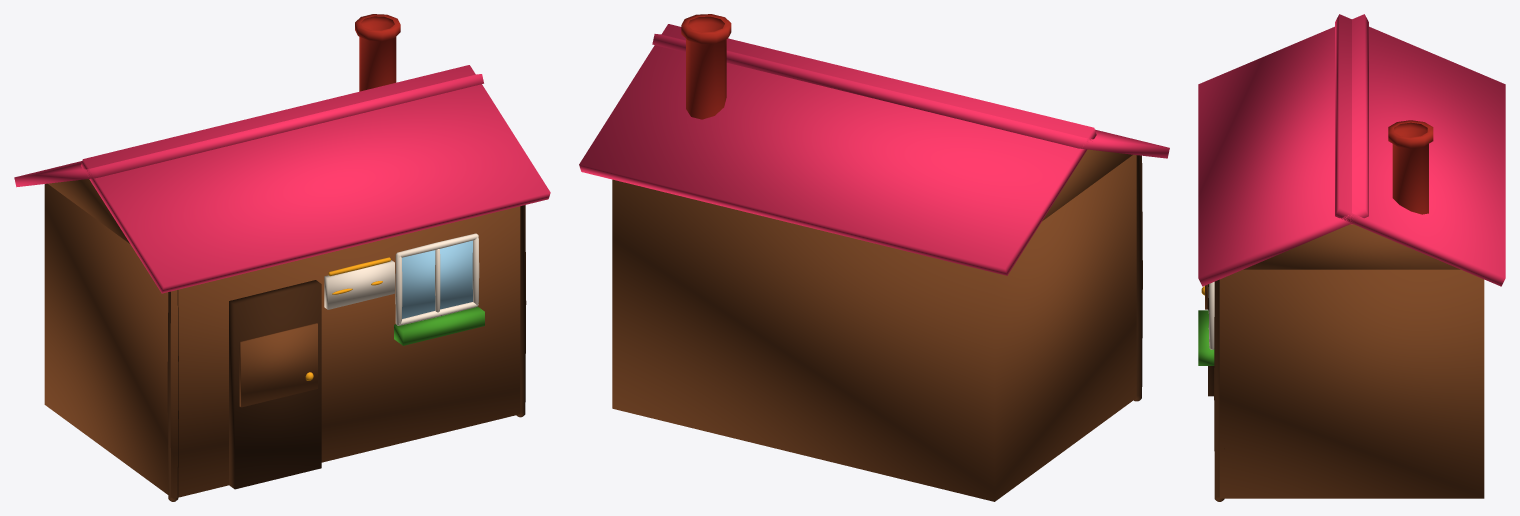
Rendered from werkstatt.glb.
3 renders of one model, left to right at view 1: azimuth 30°, elevation 25°; view 2: azimuth 150°, elevation 25°; view 3: azimuth 270°, elevation 25°, orthographic. The views are drawn at different scales.
Visible parts, largest first — view 1: Werkstatt; view 2: Werkstatt; view 3: Werkstatt.
Boxes of the visible parts, <box> form: Werkstatt: <box>14,14,550,501</box>; Werkstatt: <box>579,14,1169,501</box>; Werkstatt: <box>1198,14,1505,501</box>.
Bounding box in the file's own units: 3.12 × 2.6 × 2.09.
Materials: 1 (1 with a texture image).
